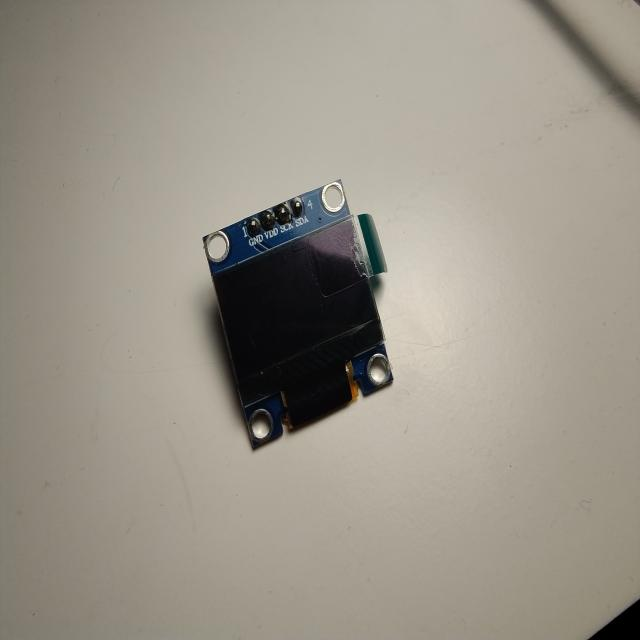oled: (203, 163, 408, 460)
